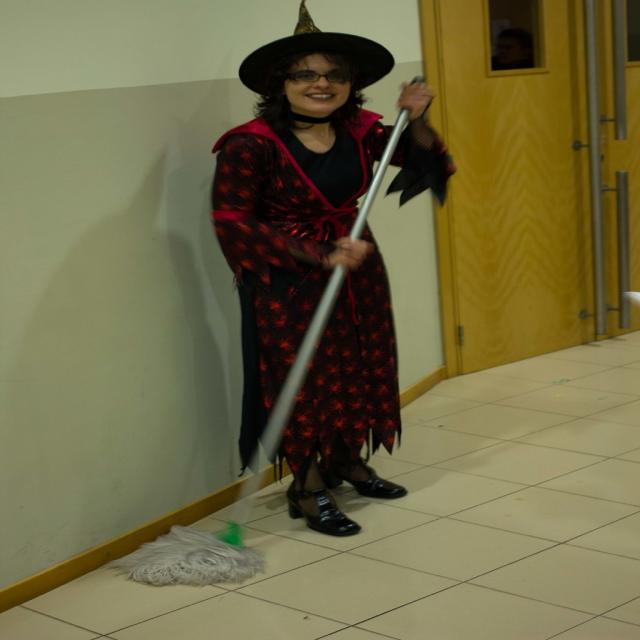Hat: (236, 0, 400, 96)
